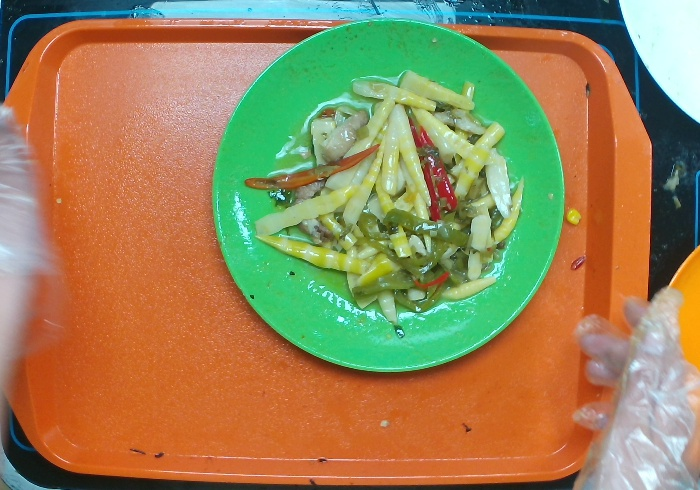HZYJPL-Lv_Se_Yuan_Pan: (206, 20, 565, 373)
